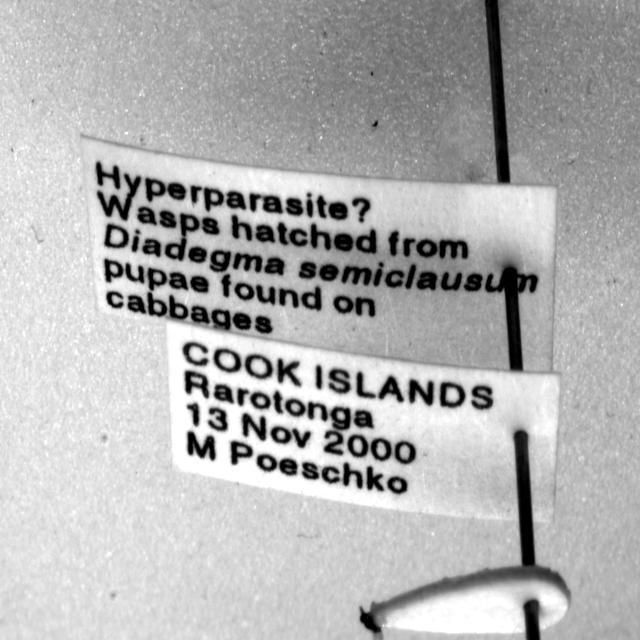typed_label: (81, 137, 556, 371), (166, 322, 560, 521)
